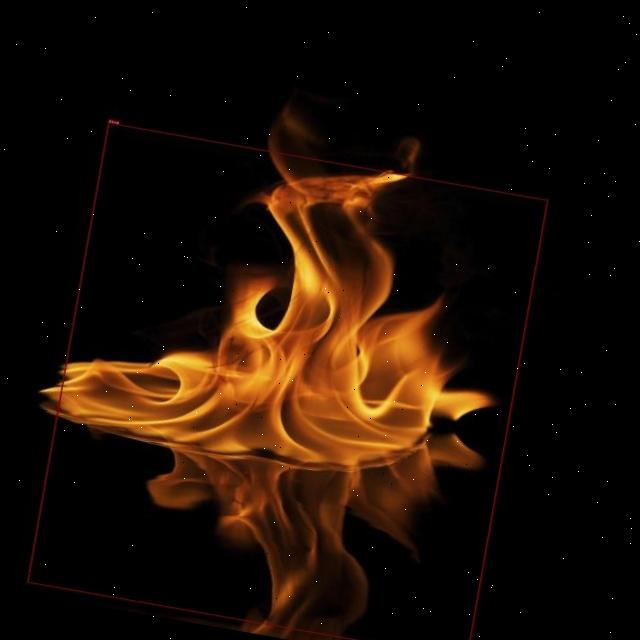fire: (26, 122, 547, 640)
